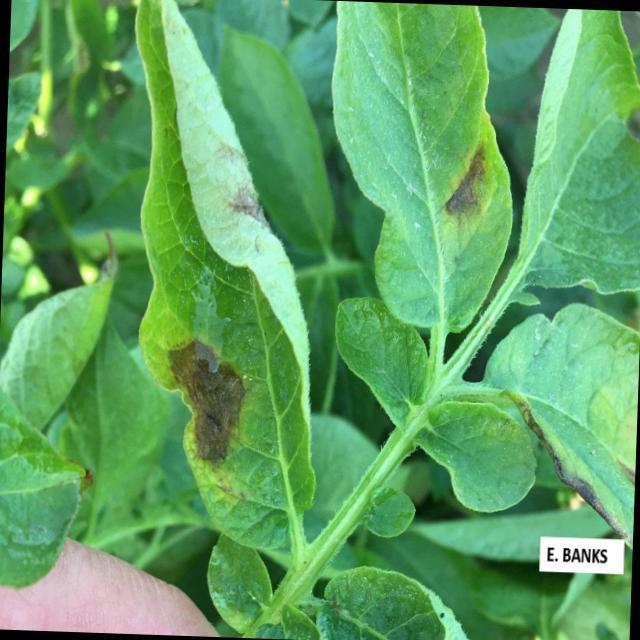Healthy Leaf: (427, 404, 542, 514), (326, 291, 428, 414), (362, 484, 418, 546)
